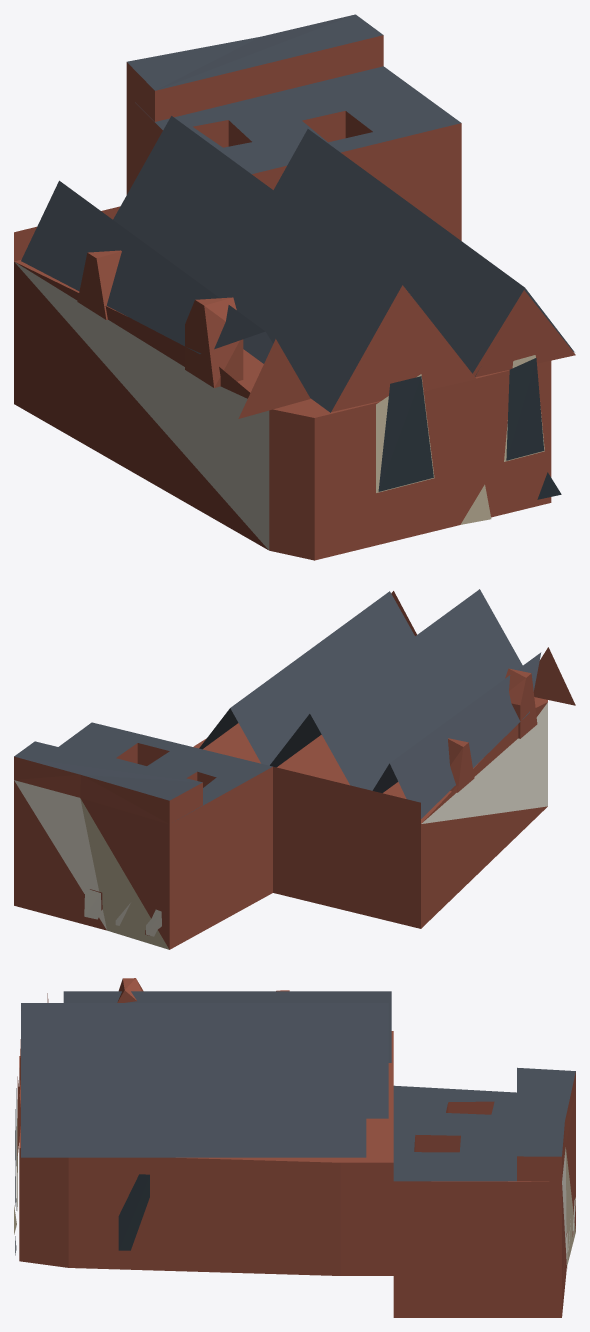
File: oude-lutherse-kerk.lod2.glb
3 renders of one model, top to bottom at view 1: azimuth 30°, elevation 25°; view 2: azimuth 150°, elevation 25°; view 3: azimuth 270°, elevation 25°, orthographic. The views are drawn at different scales.
Parts seen in each view (by area): view 1: lod2; view 2: lod2; view 3: lod2.
Boxes of the visible parts, x1,y1,x2,y2 form: lod2: (14, 14, 575, 560); lod2: (14, 589, 575, 949); lod2: (14, 978, 575, 1317).
Bounding box in the file's own units: 40.58 × 21.93 × 55.51.
